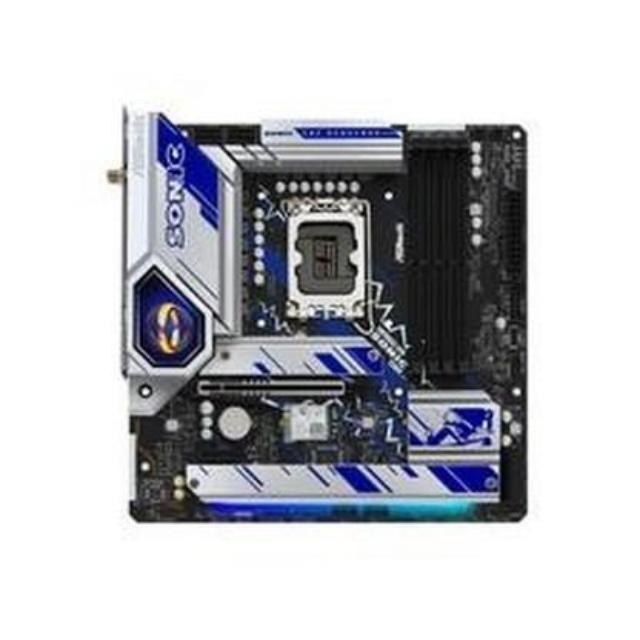Mainboard: (118, 108, 533, 530)
